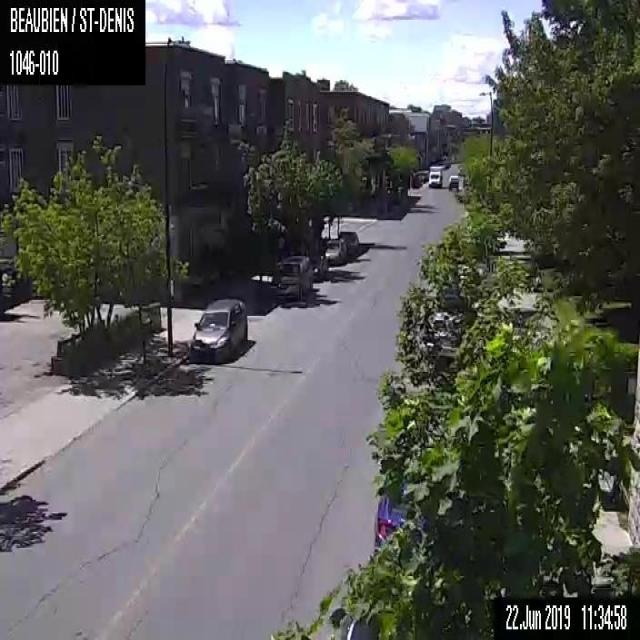vehicle: (412, 279, 471, 374), (375, 467, 435, 551), (190, 297, 247, 361), (330, 592, 389, 638), (271, 254, 312, 300), (324, 237, 345, 264), (337, 230, 359, 255), (428, 165, 442, 187), (448, 173, 458, 190)
